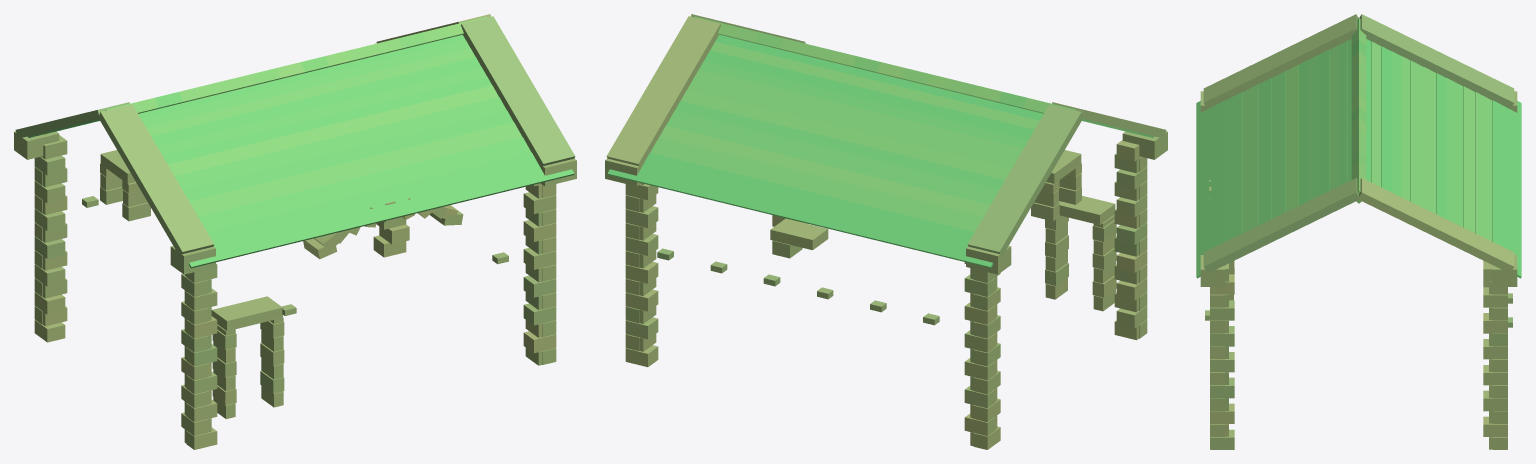
File: SM_Bld_195_Stone.glb
3 views of the same model, side by side, from view 1: azimuth 30°, elevation 25°; view 2: azimuth 150°, elevation 25°; view 3: azimuth 270°, elevation 25° (orthographic). The views are drawn at different scales.
Visible parts, largest first — view 1: SM_Bld_195_Stone; view 2: SM_Bld_195_Stone; view 3: SM_Bld_195_Stone.
Part boxes in pixels (box(x1,y1,x2,y2)): SM_Bld_195_Stone: box(14, 14, 576, 449); SM_Bld_195_Stone: box(605, 14, 1167, 449); SM_Bld_195_Stone: box(1196, 14, 1521, 449).
Bounding box in the file's own units: 8.87 × 6.14 × 6.84.
